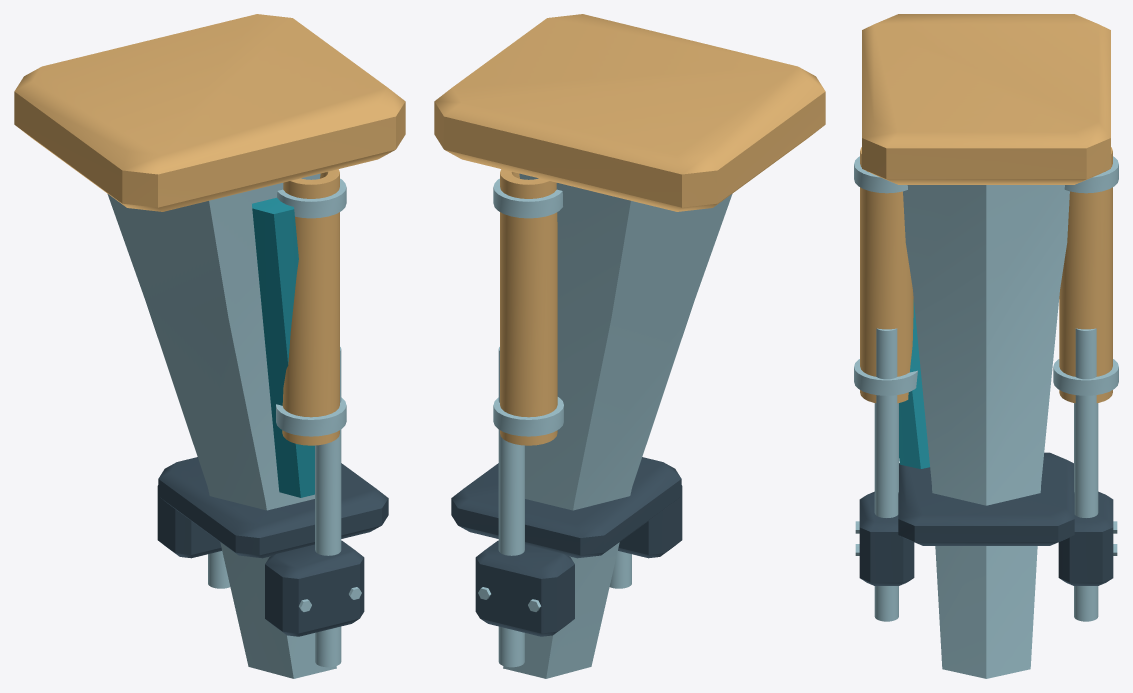
Rendered from TaperedButtress.glb.
The picture shows the model from 3 angles, left to right: view 1: azimuth 30°, elevation 25°; view 2: azimuth 150°, elevation 25°; view 3: azimuth 270°, elevation 25°; orthographic projection. The views are drawn at different scales.
Parts seen in each view (by area): view 1: support; view 2: support; view 3: support.
Part boxes in pixels (x1=…): support: x1=14, y1=14, x2=405, y2=678; support: x1=434, y1=14, x2=825, y2=678; support: x1=854, y1=14, x2=1118, y2=678.
Bounding box in the file's own units: 2.5 × 4.99 × 2.18.
